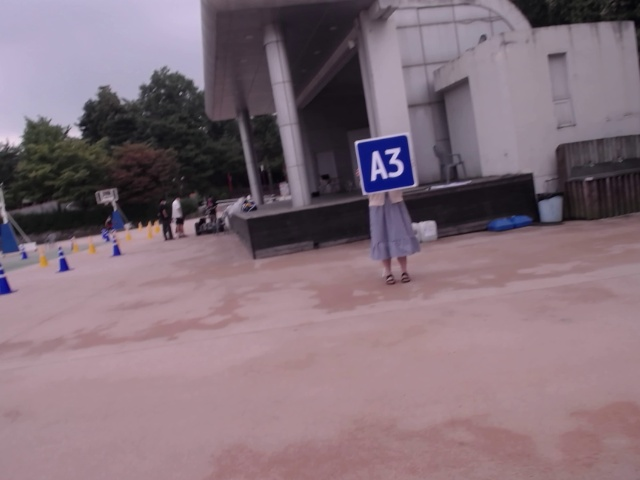delivery_a3: (355, 132, 417, 194)
